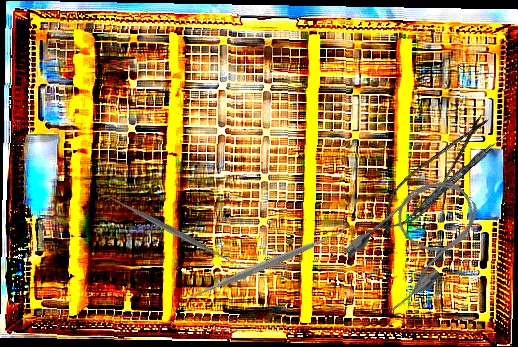Cannula: (337, 163, 497, 319)
Micro Scissor: (367, 102, 500, 246)
Spatula Surgical: (180, 219, 353, 309), (397, 123, 515, 232), (103, 189, 239, 271)
